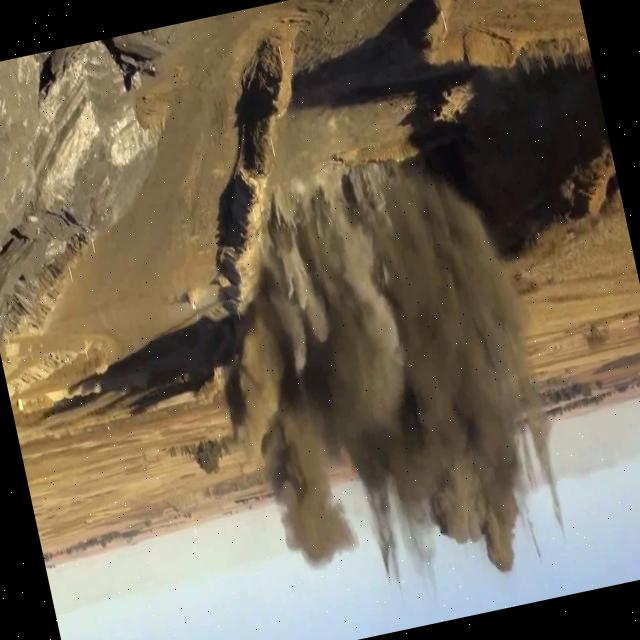explosion: (119, 46, 626, 640)
